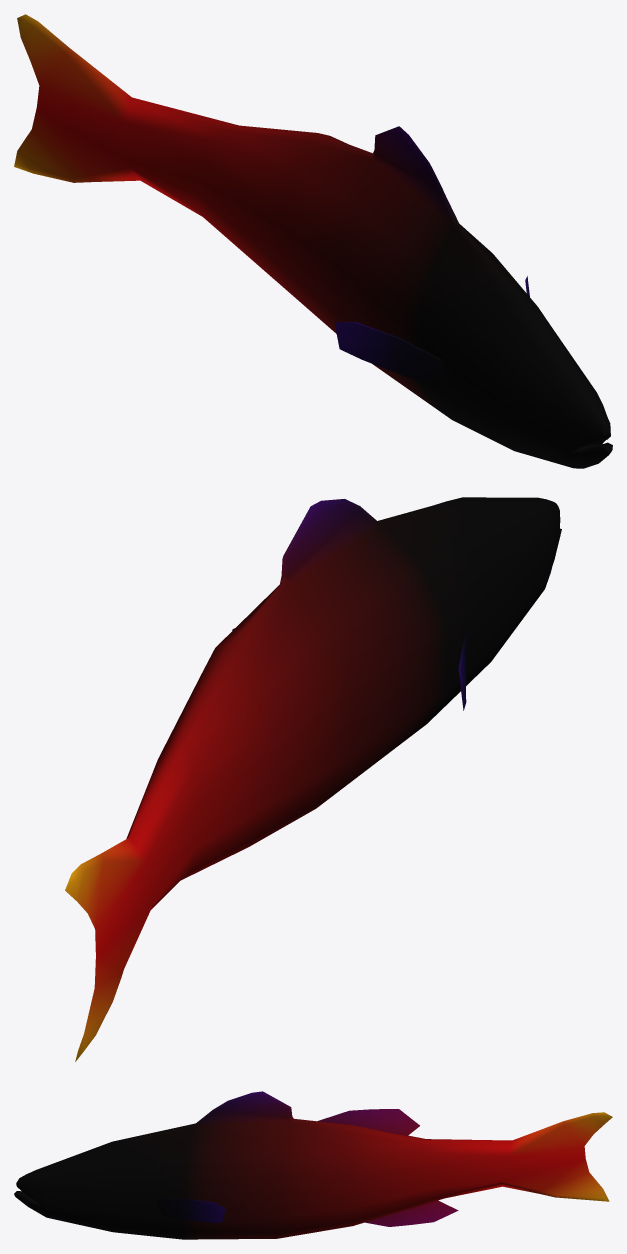
3 renders of one model, top to bottom at view 1: azimuth 30°, elevation 25°; view 2: azimuth 150°, elevation 25°; view 3: azimuth 270°, elevation 25°, orthographic. The views are drawn at different scales.
Visible parts, largest first — view 1: Seabass; view 2: Seabass; view 3: Seabass.
Part boxes in pixels (x1=…): Seabass: x1=14, y1=14, x2=612, y2=468; Seabass: x1=65, y1=497, x2=561, y2=1061; Seabass: x1=14, y1=1091, x2=612, y2=1239.
Size of the model in its own units: 0.1191 by 0.1457 by 0.5369.
